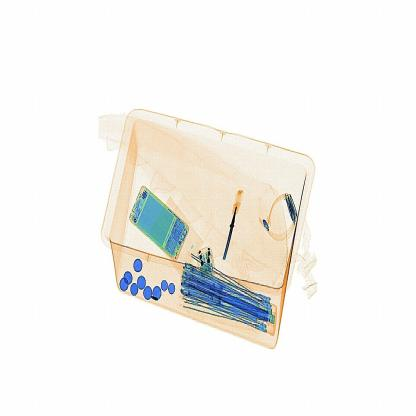gun: (220, 189, 248, 267)
